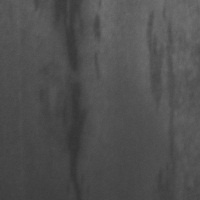inclusion: (146, 6, 190, 190), (55, 1, 90, 200), (85, 10, 108, 87)
